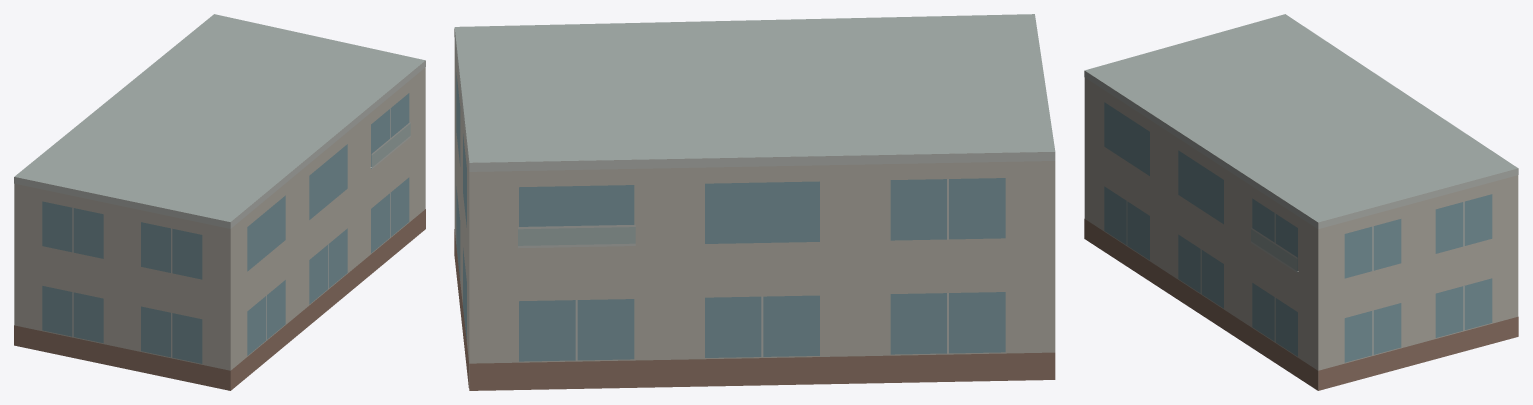
Rendered from survey-upis-32674344.glb.
The picture shows the model from 3 angles, left to right: view 1: azimuth 30°, elevation 25°; view 2: azimuth 150°, elevation 25°; view 3: azimuth 270°, elevation 25°; orthographic projection. The views are drawn at different scales.
Visible parts, largest first — view 1: survey-upis-32674344.tmp; view 2: survey-upis-32674344.tmp; view 3: survey-upis-32674344.tmp.
Part boxes in pixels (x1=…): survey-upis-32674344.tmp: x1=14, y1=14, x2=425, y2=390; survey-upis-32674344.tmp: x1=454, y1=14, x2=1055, y2=390; survey-upis-32674344.tmp: x1=1084, y1=14, x2=1518, y2=390.
Bounding box in the file's own units: 16.21 × 6.1 × 14.26.
